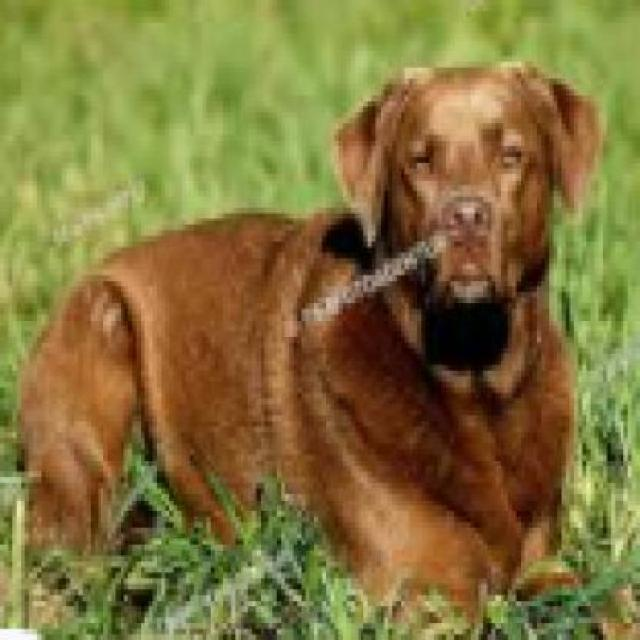Dog: (21, 60, 608, 603)
